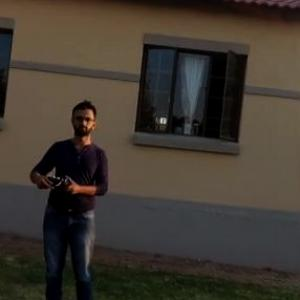follow: (17, 95, 113, 299)
